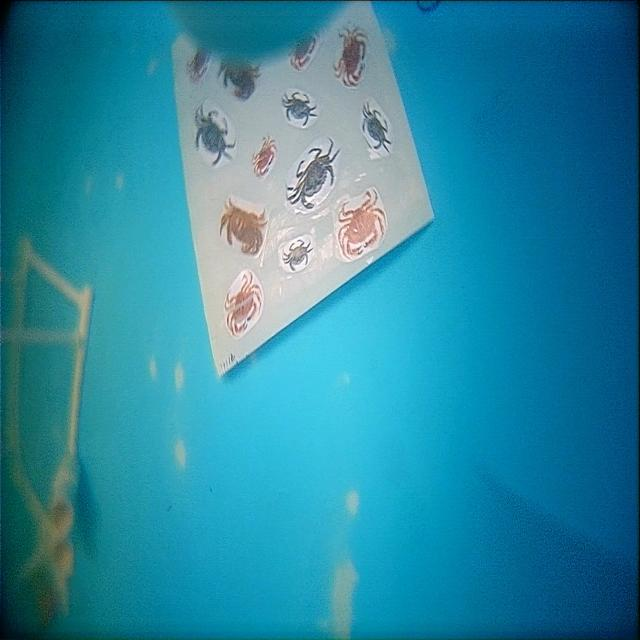GreenCrab: (287, 139, 339, 209), (195, 105, 236, 166), (362, 103, 390, 150), (282, 91, 317, 126), (284, 240, 313, 271)
